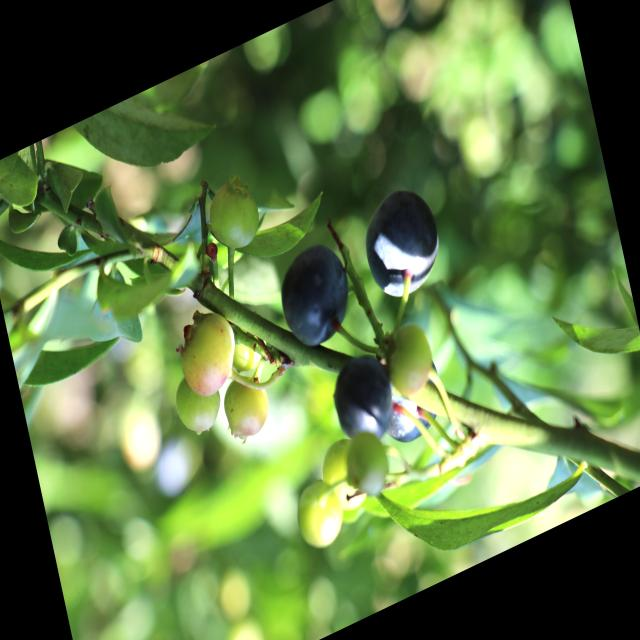blueberry: (355, 176, 448, 312), (275, 237, 358, 355), (326, 348, 399, 455)
blueberry-unripe: (172, 302, 246, 406), (380, 312, 442, 408), (291, 467, 348, 558), (206, 175, 264, 261), (338, 424, 396, 506), (173, 367, 224, 442), (222, 372, 272, 444)
